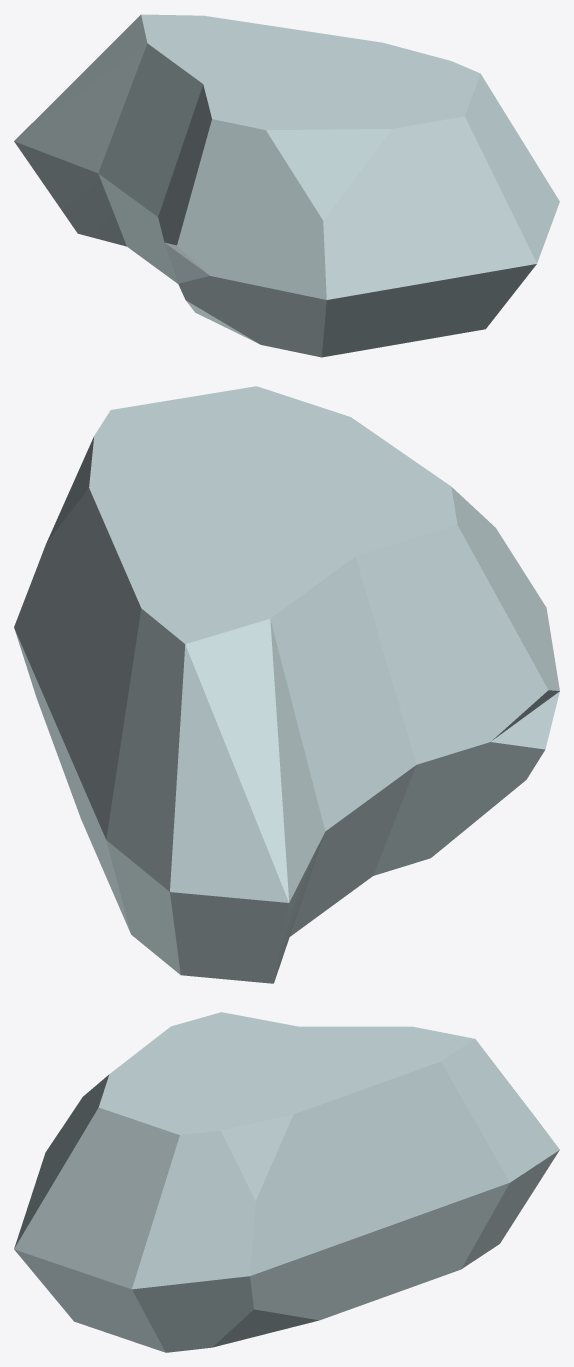
Rendered from stone_largeB.gltf.
3 views of the same model, one above another, from view 1: azimuth 30°, elevation 25°; view 2: azimuth 150°, elevation 25°; view 3: azimuth 270°, elevation 25° (orthographic). The views are drawn at different scales.
Parts seen in each view (by area): view 1: stone_largeB; view 2: stone_largeB; view 3: stone_largeB.
Part boxes in pixels (x1,y1,x2,y2): stone_largeB: [14, 14, 559, 357]; stone_largeB: [14, 386, 559, 983]; stone_largeB: [14, 1012, 559, 1352].
Bounding box in the file's own units: 0.7667 × 0.4303 × 1.02.
